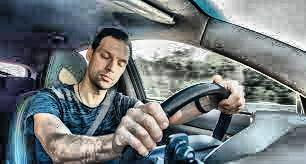seatbelt: (82, 75, 125, 138)
